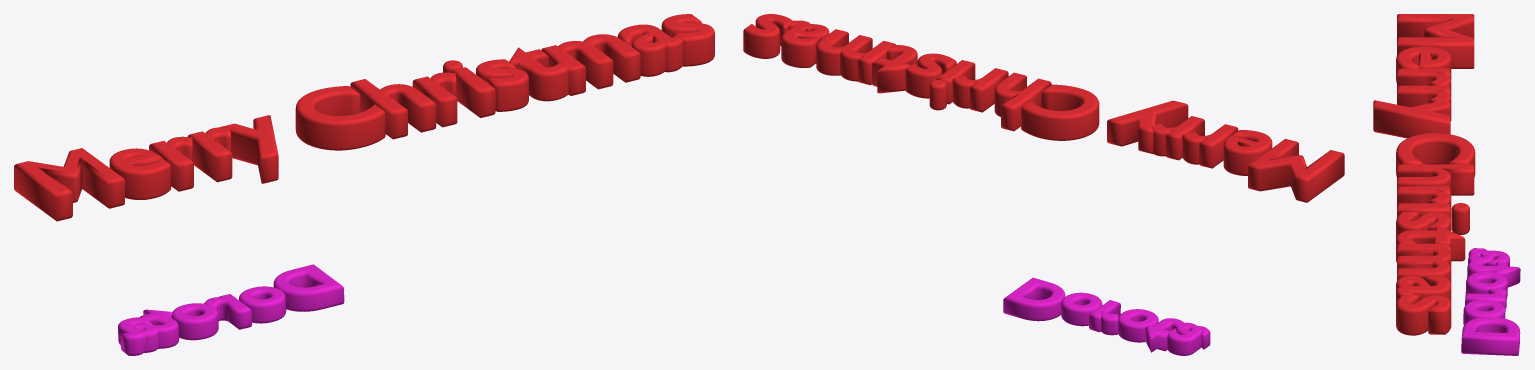
Rendered from Dorota.glb.
3 views of the same model, side by side, from view 1: azimuth 30°, elevation 25°; view 2: azimuth 150°, elevation 25°; view 3: azimuth 270°, elevation 25° (orthographic). The views are drawn at different scales.
Visible parts, largest first — view 1: Text, Text.001; view 2: Text, Text.001; view 3: Text, Text.001.
Boxes of the visible parts, x1,y1,x2,y2 form: Text: (14,14,714,221); Text.001: (118,264,344,355); Text: (743,14,1344,202); Text.001: (1003,277,1210,355); Text: (1373,14,1475,335); Text.001: (1461,248,1520,355).
Bounding box in the file's own units: 9.52 × 3.03 × 1.99.
